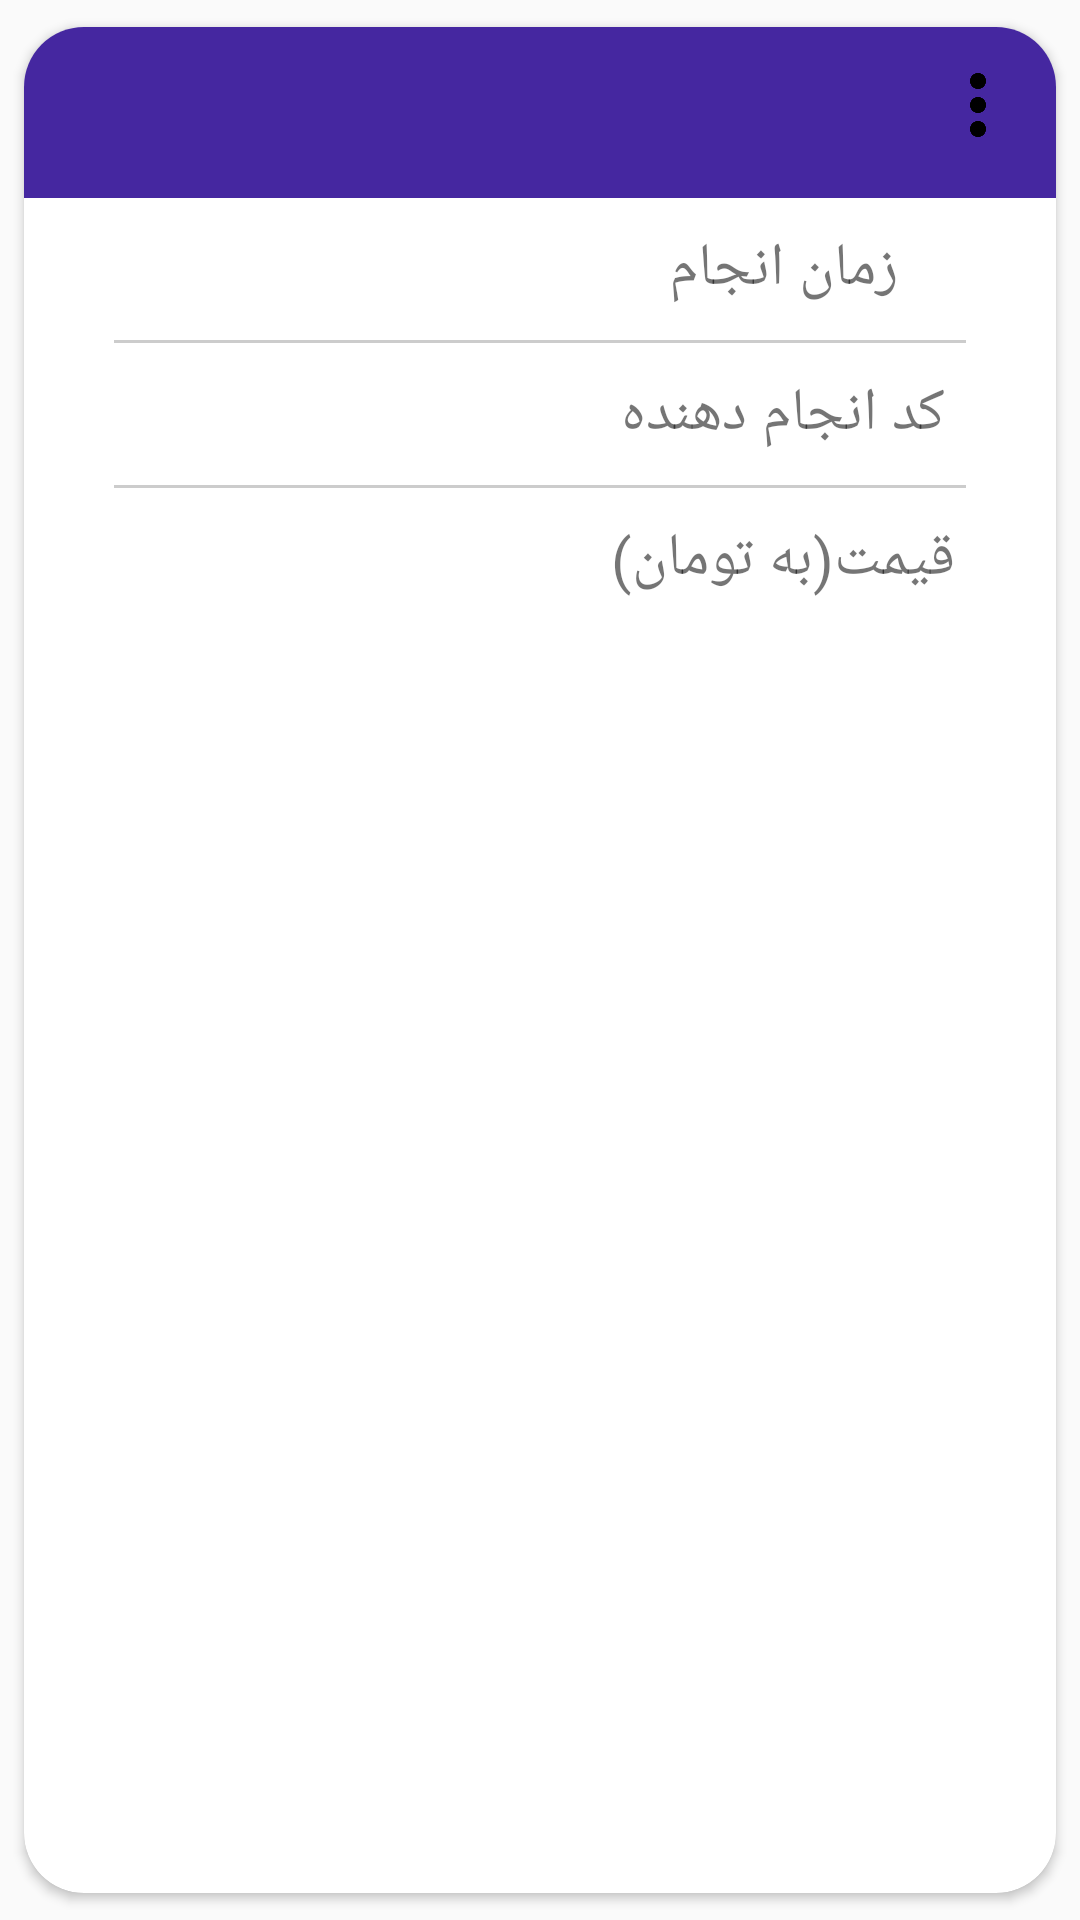

Where to tap for icons on this 1080x1920 app screen, as (x,y):
more: (978,105)
